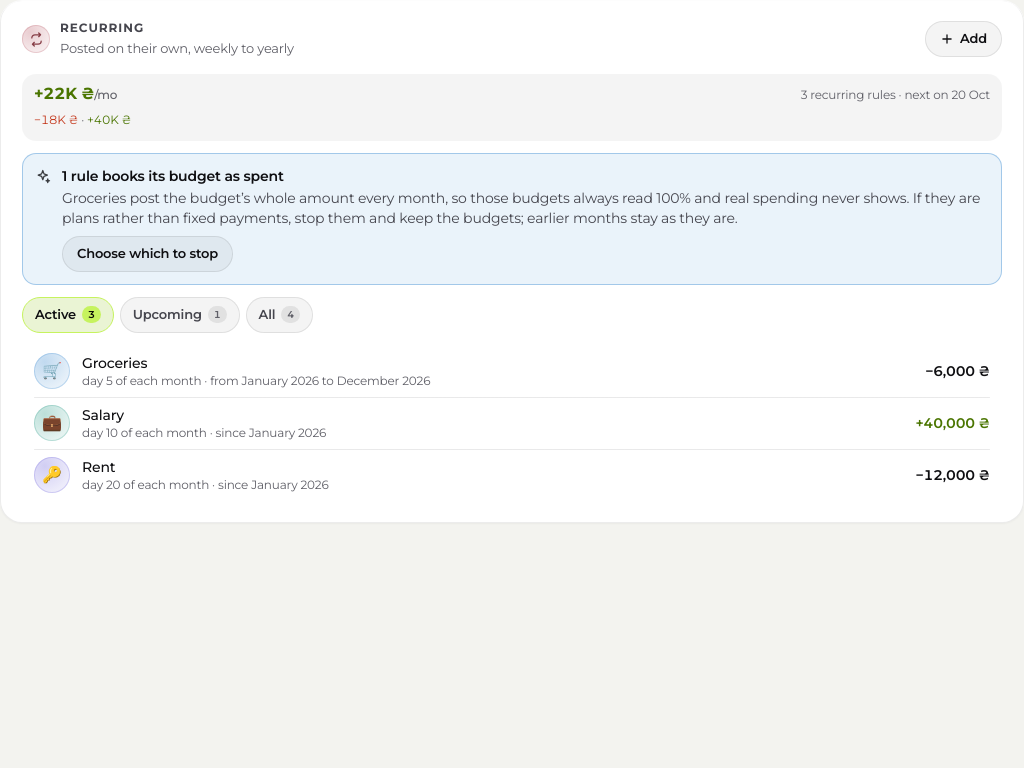
Test: RecurringCard › offers to stop the rules that book a budget as spent
Expected: the text "1 rule books its budget as spent" is shown, x1=62 y1=167 x2=284 y2=185
Click the button "Choose which to stop": (148, 254) x1=62 y1=236 x2=233 y2=272
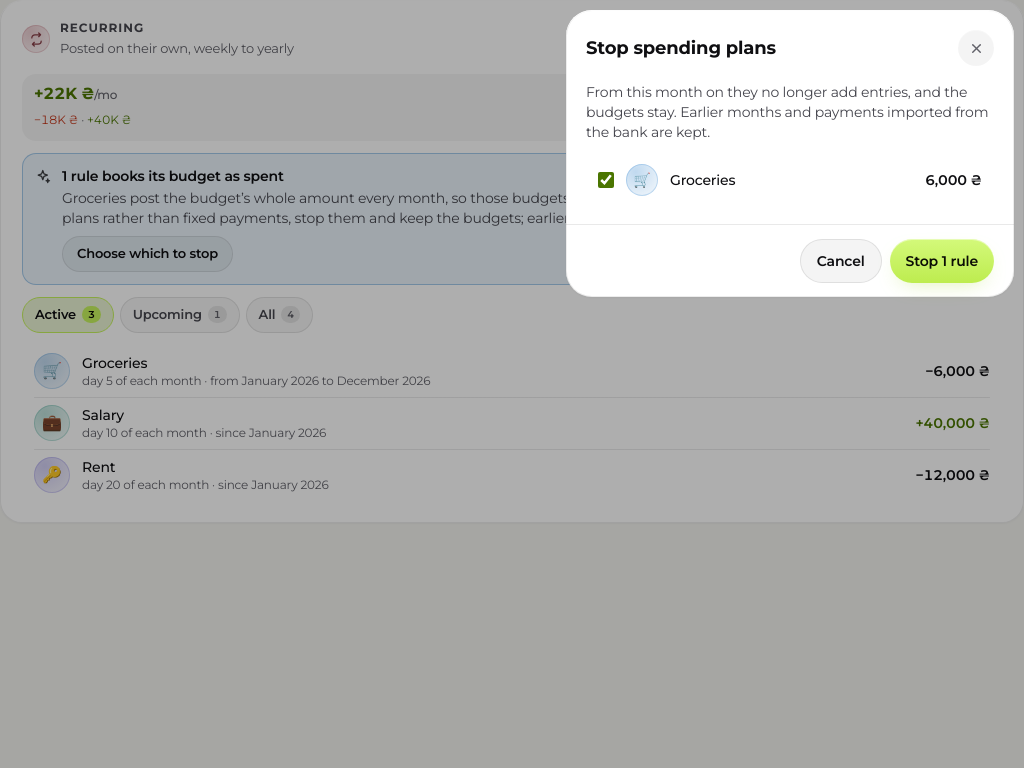
Expected: the dialog "Stop spending plans" is shown, x1=566 y1=10 x2=1014 y2=297
